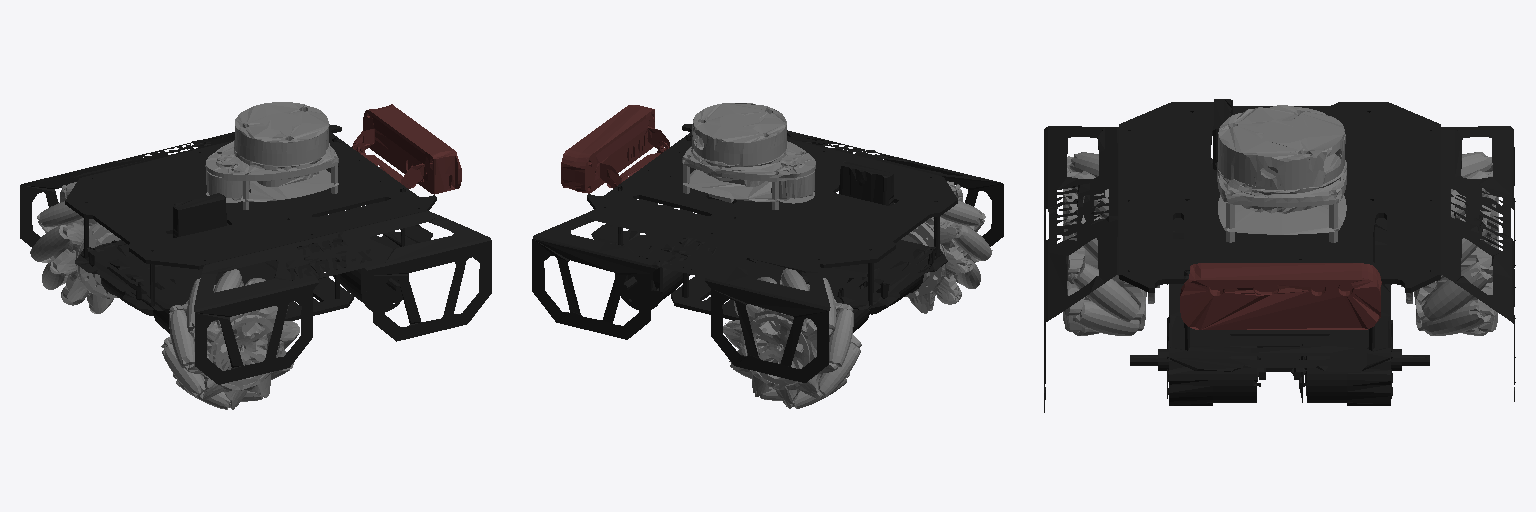
The robot description file, URDF, robot "ironx_3d_camera":
<?xml version="1.0" ?>
<robot name="ironx_3d_camera"
  xmlns:xacro="http://ros.org/wiki/xacro">

  <link name="base_footprint"/>

<!-- start ironx_structure -->
  <joint name="base_joint" type="fixed">
    <parent link="base_footprint"/>
    <child link="base_link"/>
    <origin xyz="0.0 0.0 0.0" rpy="0 0 0"/>
  </joint>

  <link name="base_link">
    <visual>
      <origin xyz="0 0 0.0235" rpy="0 0 0"/>
      <geometry>
        <mesh filename="package://ironx_description/meshes/stl/ironx_structure.stl"/>
      </geometry>
      <material name="c1"> 
        <color rgba="0.149 0.149 0.149 1.0"/> 
			</material>
    </visual>

    <collision>
      <origin xyz="0 0 0.04" rpy="0 0 0"/>
      <geometry>
        <box size="0.268 0.258 0.160"/>
      </geometry>
    </collision>

    <inertial>
      <origin xyz="0 0 0" rpy="0 0 0"/>
      <mass value="8.2573504e-01"/>
      <inertia ixx="2.2124416e-03" ixy="-1.2294101e-05" ixz="3.4938785e-05" iyy="2.1193702e-03" iyz="-5.0120904e-06" izz="2.0064271e-03" />
    </inertial>
  </link>
<!-- end ironx_structure -->

<!-- start wheel_1 -->
  <joint name="wheel_1_joint" type="fixed">
    <parent link="base_link"/>
    <child link="wheel_1_link"/>
    <!-- <limit effort = "30" velocity="10"/> -->
    <origin xyz="0.0745 0.0915 0.048" rpy="0 0 0"/>
    <!-- <axis xyz="0 0 1"/> -->
  </joint>

  <link name="wheel_1_link">
    <visual>
      <origin xyz="0 0 -0.048" rpy="0 0 0"/>
      <geometry>
        <mesh filename="package://ironx_description/meshes/stl/wheel_1.stl"/>
      </geometry>
      <material name="c2"> 
        <color rgba="0.498 0.498 0.498 1" /> 
			</material>
    </visual>

    <collision>
      <origin xyz="0 0 0" rpy="0 0 0"/>
      <geometry>
        <cylinder length="0.05" radius="0.048"/>
      </geometry>
    </collision>

    <inertial>
      <origin xyz="0 0 0" />
      <mass value="2.8498940e-02" />
      <inertia ixx="1.1175580e-05" ixy="-4.2369783e-11" ixz="-5.9381719e-09" iyy="1.1192413e-05" iyz="-1.4400107e-11" izz="2.0712558e-05" />
    </inertial>
  </link>
<!-- end wheel_1 -->

<!-- start wheel_2 -->
  <joint name="wheel_2_joint" type="fixed">
    <parent link="base_link"/>
    <child link="wheel_2_link"/>
    <limit effort = "30" velocity="10"/>
    <origin xyz="0.0745 -0.0915 0.048" rpy="0 0 0"/>
    <axis xyz="0 0 1"/>
  </joint>

  <link name="wheel_2_link">
    <visual>
      <origin xyz="0 0 -0.048" rpy="0 0 3.1416"/>
      <geometry>
        <mesh filename="package://ironx_description/meshes/stl/wheel_2.stl"/>
      </geometry>
      <material name="c3"> 
        <color rgba="0.498 0.498 0.498 1" /> 
			</material>
    </visual>

    <collision>
      <origin xyz="0 0 0" rpy="0 0 0"/>
      <geometry>
        <cylinder length="0.05" radius="0.048"/>
      </geometry>
    </collision>

    <inertial>
      <origin xyz="0 0 0" />
      <mass value="2.8498940e-02" />
      <inertia ixx="1.1175580e-05" ixy="-4.2369783e-11" ixz="-5.9381719e-09" iyy="1.1192413e-05" iyz="-1.4400107e-11" izz="2.0712558e-05" />
    </inertial>
  </link>
<!-- end wheel_2 -->

<!-- start wheel_3 -->
  <joint name="wheel_3_joint" type="fixed">
    <parent link="base_link"/>
    <child link="wheel_3_link"/>
    <limit effort = "30" velocity="10"/>
    <origin xyz="-0.0745 0.0915 0.048" rpy="0 0 0"/>
    <axis xyz="0 0 1"/>
  </joint>

  <link name="wheel_3_link">
    <visual>
      <origin xyz="0 0 -0.048" rpy="0 0 0"/>
      <geometry>
        <mesh filename="package://ironx_description/meshes/stl/wheel_3.stl"/>
      </geometry>
      <material name="c4"> 
        <color rgba="0.498 0.498 0.498 1" /> 
			</material>
    </visual>

    <collision>
      <origin xyz="0 0 0" rpy="0 0 0"/>
      <geometry>
        <cylinder length="0.05" radius="0.048"/>
      </geometry>
    </collision>

    <inertial>
      <origin xyz="0 0 0" />
      <mass value="2.8498940e-02" />
      <inertia ixx="1.1175580e-05" ixy="-4.2369783e-11" ixz="-5.9381719e-09" iyy="1.1192413e-05" iyz="-1.4400107e-11" izz="2.0712558e-05" />
    </inertial>
  </link>
<!-- end wheel_3 -->

<!-- start wheel_4 -->
  <joint name="wheel_4_joint" type="fixed">
    <parent link="base_link"/>
    <child link="wheel_4_link"/>
    <!-- <limit effort = "30" velocity="10"/> -->
    <origin xyz="-0.0745 -0.0915 0.048" rpy="0 0 0"/>
    <!-- <axis xyz="0 0 1"/> -->
  </joint>

  <link name="wheel_4_link">
    <visual>
      <origin xyz="0 0 -0.048" rpy="0 0 3.1416"/>
      <geometry>
        <mesh filename="package://ironx_description/meshes/stl/wheel_4.stl"/>
      </geometry>
      <material name="c5"> 
        <color rgba="0.498 0.498 0.498 1" /> 
			</material>
    </visual>

    <collision>
      <origin xyz="0 0 0" rpy="0 0 0"/>
      <geometry>
        <cylinder length="0.05" radius="0.048"/>
      </geometry>
    </collision>

    <inertial>
      <origin xyz="0 0 0" />
      <mass value="2.8498940e-02" />
      <inertia ixx="1.1175580e-05" ixy="-4.2369783e-11" ixz="-5.9381719e-09" iyy="1.1192413e-05" iyz="-1.4400107e-11" izz="2.0712558e-05" />
    </inertial>
  </link>
<!-- end wheel_4 -->

<!-- start imu -->
  <joint name="imu_joint" type="fixed">
    <parent link="base_link"/>
    <child link="imu_link"/>
    <origin xyz="-0.065 -0.013 0.080" rpy="0 0 0"/>
  </joint>

  <link name="imu_link">
    
  </link>
<!-- end imu -->

<!-- start scan -->
  <joint name="scan_joint" type="fixed">
    <parent link="base_link"/>
    <child link="base_scan"/>
    <origin xyz="0.025 0 0.145" rpy="0 0 3.14"/>
  </joint>

  <link name="base_scan">
    <visual>
      <origin xyz="0 0 -0.035" rpy="0 0 3.14"/>
      <geometry>
        <mesh filename="package://ironx_description/meshes/stl/lidar.stl"/>
      </geometry>
      <material name="c6"> 
        <color rgba="0.498 0.498 0.498 1.0" /> 
			</material>
    </visual>

    <collision>
      <origin xyz="0 0 0" rpy="0 0 0"/>
      <geometry>
        <cylinder length="0.0315" radius="0.055"/>
      </geometry>
    </collision>

    <inertial>
      <mass value="0.114" />
      <origin xyz="0 0 0" />
      <inertia ixx="0.001" ixy="0.0" ixz="0.0" iyy="0.001" iyz="0.0" izz="0.001" />
    </inertial>
  </link>
<!-- end scan -->

<!-- start camera3d -->
  <joint name="camera3d_joint" type="fixed">
    <parent link="base_link"/>
    <child link="camera_link"/>
    <origin xyz="0.112 0 0.16" rpy="0 0 0"/>
  </joint>

  <link name="camera_link">
    <visual>
      <origin xyz="0 0 -0.06" rpy="0 0 0"/>
      <geometry>
        <mesh filename="package://ironx_description/meshes/stl/3d_camera.stl"/>
      </geometry>
      <material name="c7"> 
        <color rgba="0.356 0.203 0.2 1" /> 
			</material>
    </visual>

    <collision>
      <origin xyz="0 0 0" rpy="0 0 0"/>
      <geometry>
        <cylinder length="0.0315" radius="0.055"/>
      </geometry>
    </collision>

    <inertial>
      <mass value="0.114" />
      <origin xyz="0 0 0" />
      <inertia ixx="0.001" ixy="0.0" ixz="0.0" iyy="0.001" iyz="0.0" izz="0.001" />
    </inertial>
  </link>
<!-- end camera3d -->

</robot>

--- Render facts (derived) ---
3 views of the same robot in one strip: view 1: azimuth 30°, elevation 25°; view 2: azimuth 150°, elevation 25°; view 3: azimuth 270°, elevation 25° (orthographic).
Model ironx_3d_camera with 9 links and 8 joints (8 fixed), rooted at base_footprint, posed all joints at 0.
Visible links, largest first — view 1: base_link, base_scan, wheel_4_link, camera_link, wheel_3_link; view 2: base_link, base_scan, wheel_3_link, camera_link, wheel_4_link; view 3: base_link, base_scan, camera_link, wheel_3_link, wheel_4_link.
Link boxes in pixels (x1,y1,x2,y2): base_link: (20, 125, 491, 384); base_scan: (205, 102, 338, 209); wheel_4_link: (161, 269, 299, 409); camera_link: (352, 104, 461, 194); wheel_3_link: (30, 182, 120, 313); base_link: (532, 124, 1003, 382); base_scan: (682, 103, 815, 209); wheel_3_link: (723, 268, 861, 408); camera_link: (561, 105, 669, 193); wheel_4_link: (894, 181, 992, 313); base_link: (1044, 99, 1515, 412); base_scan: (1217, 105, 1346, 242); camera_link: (1180, 263, 1381, 329); wheel_3_link: (1401, 152, 1498, 335); wheel_4_link: (1063, 152, 1159, 335).
Size in the robot's own frame: 0.2691 by 0.2553 by 0.1635 metres.
Meshes: 7 distinct files referenced, 5 mesh visuals loaded (5 binary STL); not drawn: 2 (reference not matched to a file when rendering).
